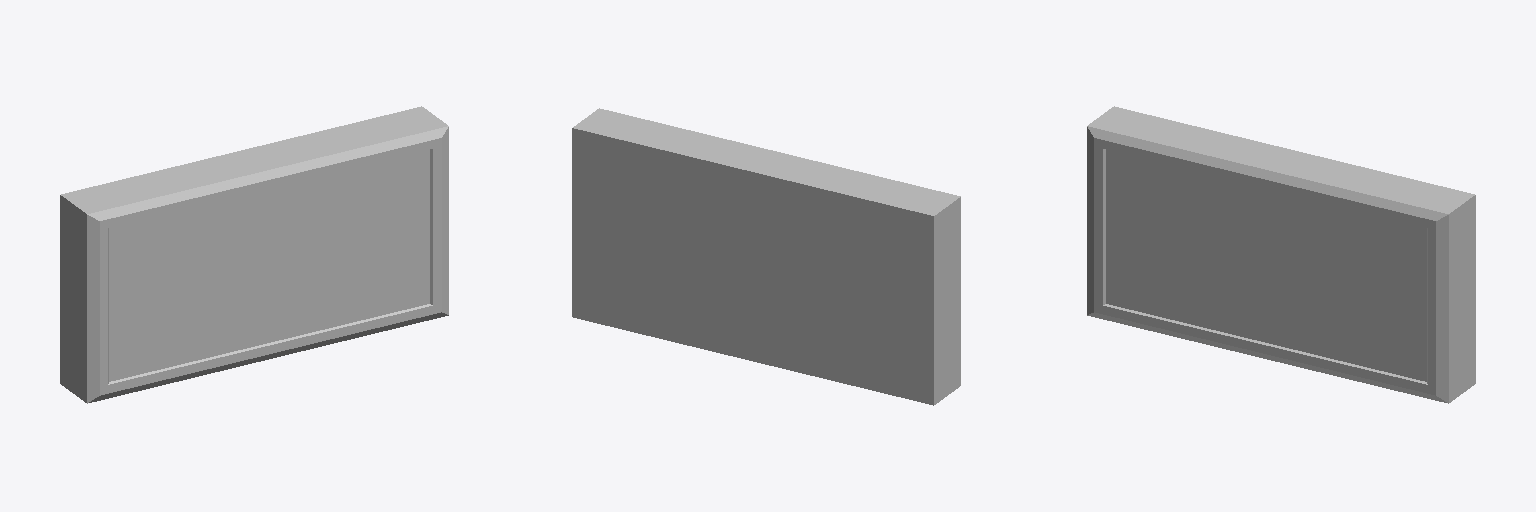
The model's file is Gimmick_Stone_Base01.obj.
3 renders of one model, left to right at view 1: azimuth 30°, elevation 25°; view 2: azimuth 150°, elevation 25°; view 3: azimuth 330°, elevation 25°, orthographic.
Visible parts, largest first — view 1: Gimmick_Stone_Mesh01_low Gimmick_Stone_low; view 2: Gimmick_Stone_Mesh01_low Gimmick_Stone_low; view 3: Gimmick_Stone_Mesh01_low Gimmick_Stone_low.
Boxes of the visible parts, x1,y1,x2,y2 form: Gimmick_Stone_Mesh01_low Gimmick_Stone_low: [60, 106, 448, 403]; Gimmick_Stone_Mesh01_low Gimmick_Stone_low: [572, 108, 960, 405]; Gimmick_Stone_Mesh01_low Gimmick_Stone_low: [1087, 106, 1475, 403].
Size of the model in its own units: 60 by 30 by 8.5.